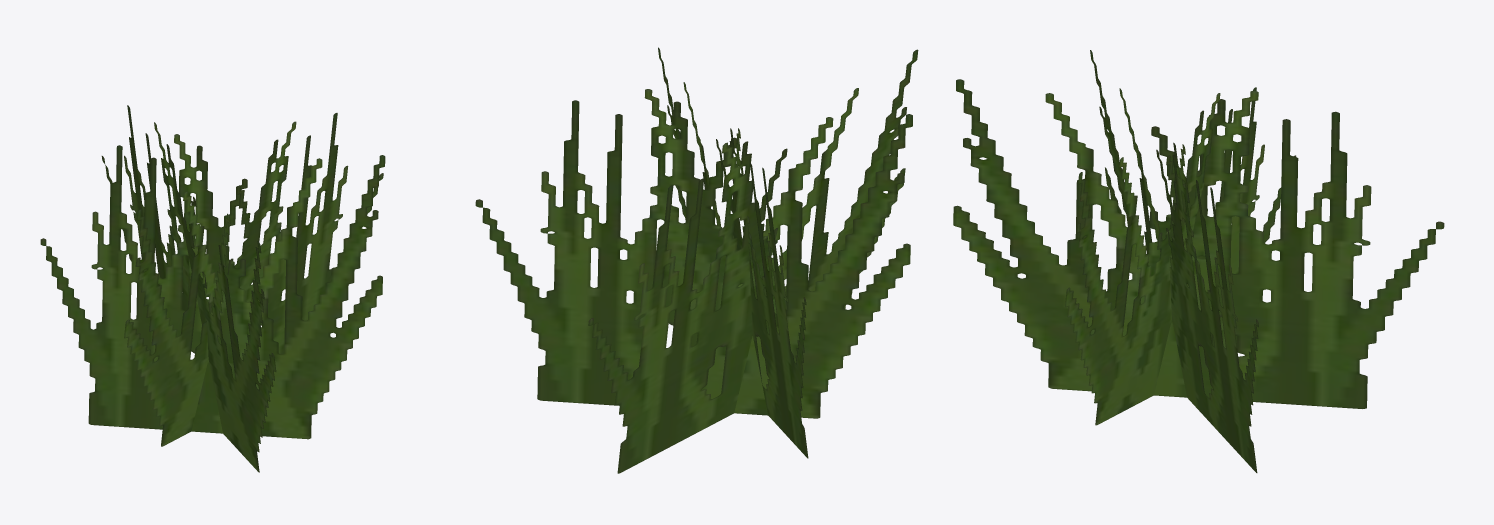
The model's file is tuft_a.glb.
The picture shows the model from 3 angles, left to right: view 1: azimuth 30°, elevation 25°; view 2: azimuth 150°, elevation 25°; view 3: azimuth 270°, elevation 25°; orthographic projection. The views are drawn at different scales.
Parts seen in each view (by area): view 1: town_tuft; view 2: town_tuft; view 3: town_tuft.
Part boxes in pixels (x1,y1,x2,y2): town_tuft: [40, 105, 385, 472]; town_tuft: [475, 47, 918, 473]; town_tuft: [953, 50, 1444, 472].
Bounding box in the file's own units: 0.2615 × 0.2 × 0.3002.
1 material, 1 textured.
